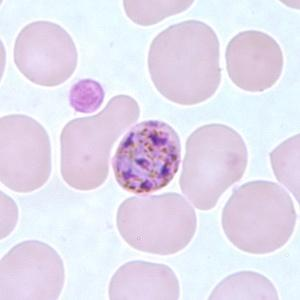Infected: (112, 118, 182, 192)
Uninfected: (56, 95, 139, 191), (148, 18, 221, 104), (180, 123, 249, 211), (224, 180, 297, 254), (116, 193, 197, 255), (0, 113, 52, 193), (14, 21, 76, 87), (0, 239, 63, 300), (224, 30, 282, 91), (110, 259, 180, 300)
